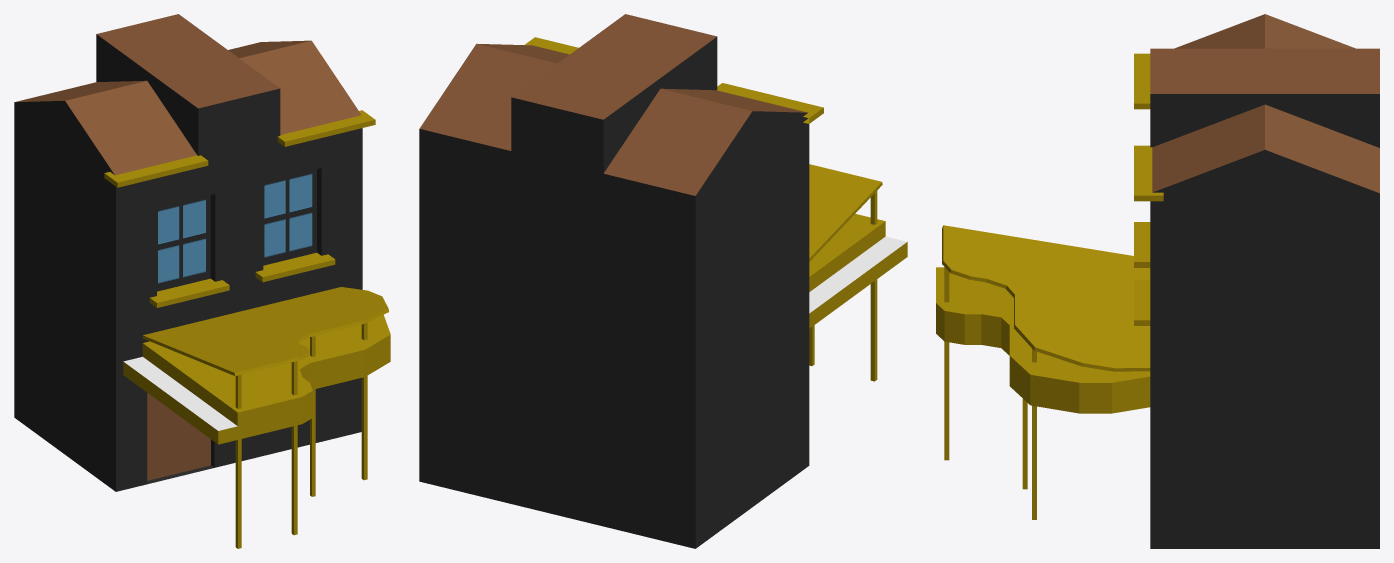
File: JazzPiano3.obj
3 views of the same model, side by side, from view 1: azimuth 30°, elevation 25°; view 2: azimuth 150°, elevation 25°; view 3: azimuth 270°, elevation 25° (orthographic). The views are drawn at different scales.
Visible parts, largest first — view 1: PianionoJazzDONE.002; view 2: PianionoJazzDONE.002; view 3: PianionoJazzDONE.002.
Part boxes in pixels (bbox=[...]): PianionoJazzDONE.002: bbox=[14, 14, 390, 548]; PianionoJazzDONE.002: bbox=[419, 14, 907, 548]; PianionoJazzDONE.002: bbox=[936, 14, 1379, 548].
Size of the model in its own units: 7.32 by 9.85 by 9.67.
